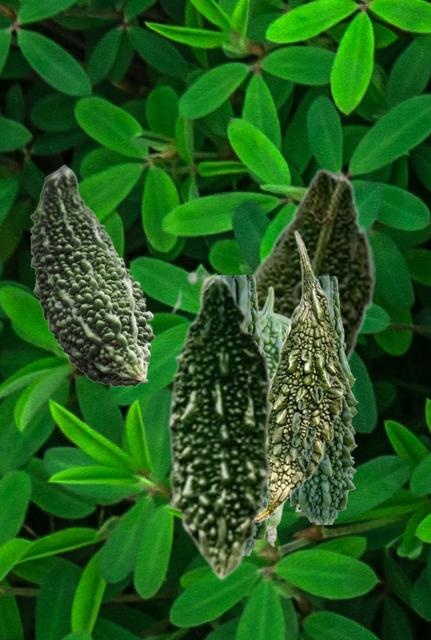ampalaya: (167, 270, 278, 581), (30, 164, 154, 386), (256, 229, 348, 521), (247, 168, 376, 365), (282, 276, 357, 523), (220, 275, 276, 554), (259, 286, 288, 546)
